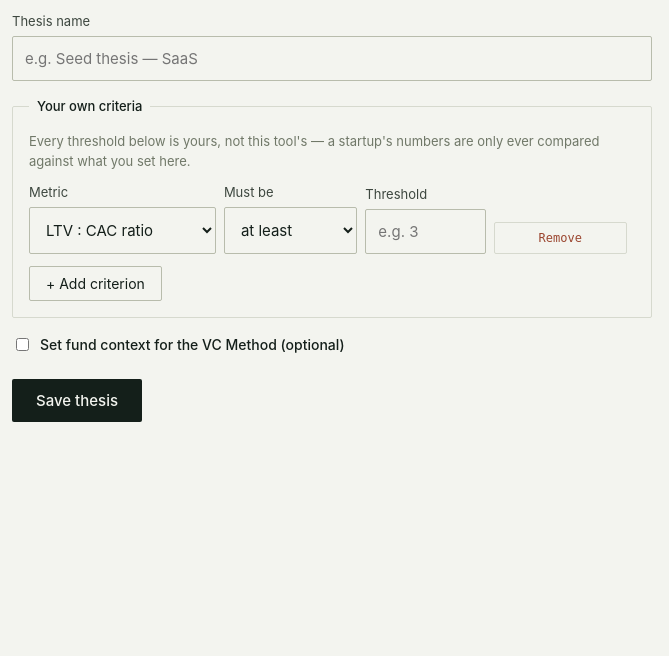
Test: ThesisForm › only shows fund context fields once the toggle is checked
expect the field labelled "fund size" is not shown: met
Click the checkbox labelled "Set fund context for the VC Method (optional)" at (22, 344), box [16,338,29,350]
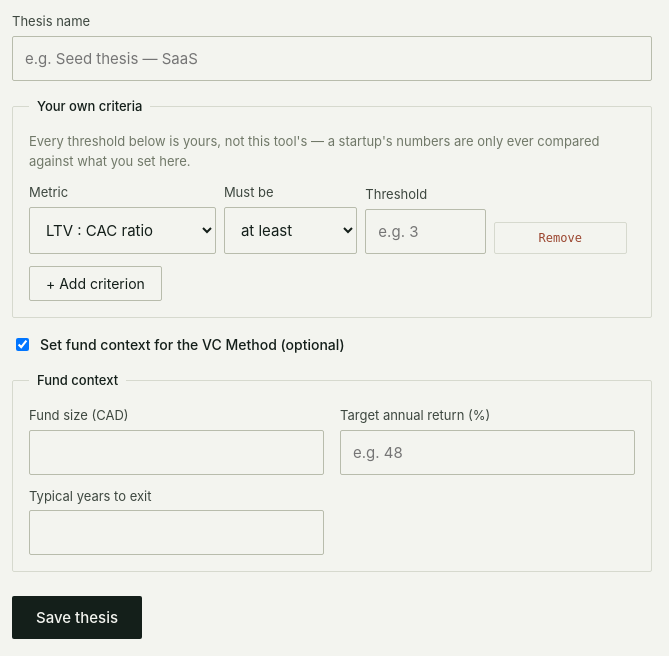
expect the field labelled "Fund size (CAD)" is shown: met, box [29,430,324,474]
